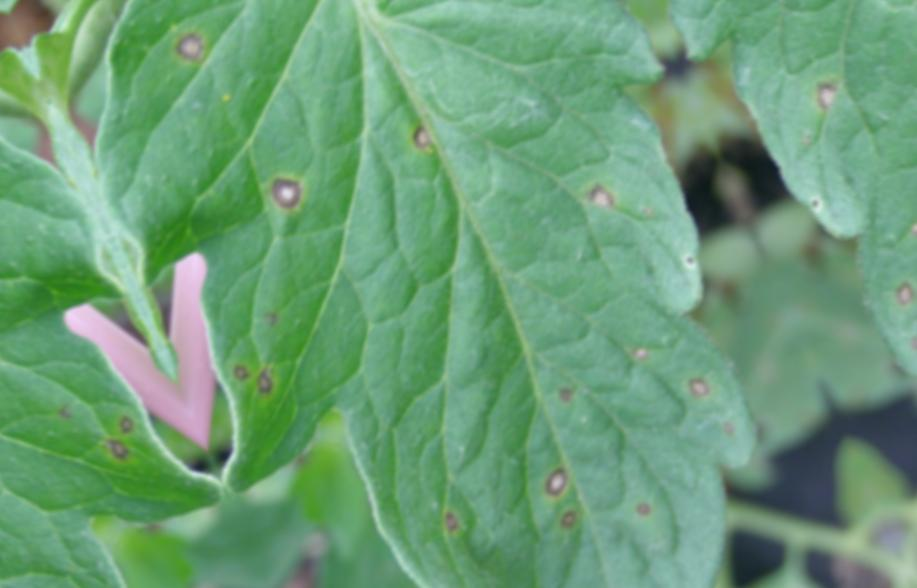Tomato leaf bacterial spot: (10, 0, 890, 588)
